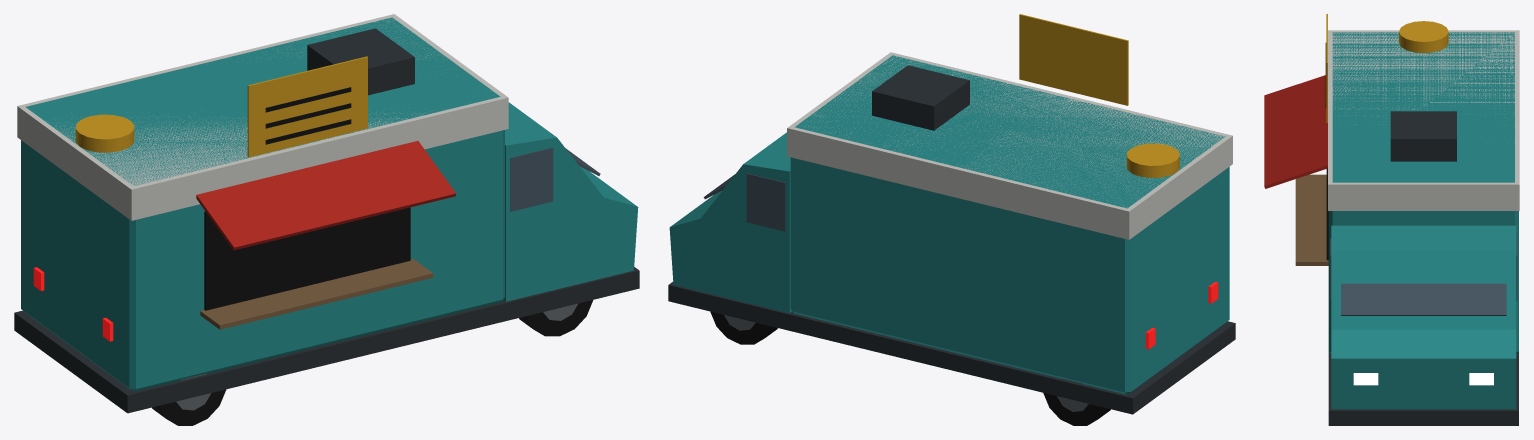
The model's file is gb-foodtruck.glb.
3 views of the same model, side by side, from view 1: azimuth 30°, elevation 25°; view 2: azimuth 150°, elevation 25°; view 3: azimuth 270°, elevation 25° (orthographic). The views are drawn at different scales.
Visible parts, largest first — view 1: gb-foodtruck; view 2: gb-foodtruck; view 3: gb-foodtruck.
Part boxes in pixels (box(x1,y1,x2,y2)): gb-foodtruck: box(14, 14, 639, 425); gb-foodtruck: box(668, 14, 1235, 425); gb-foodtruck: box(1264, 14, 1519, 425).
Bounding box in the file's own units: 6.02 × 3.7 × 3.09.
